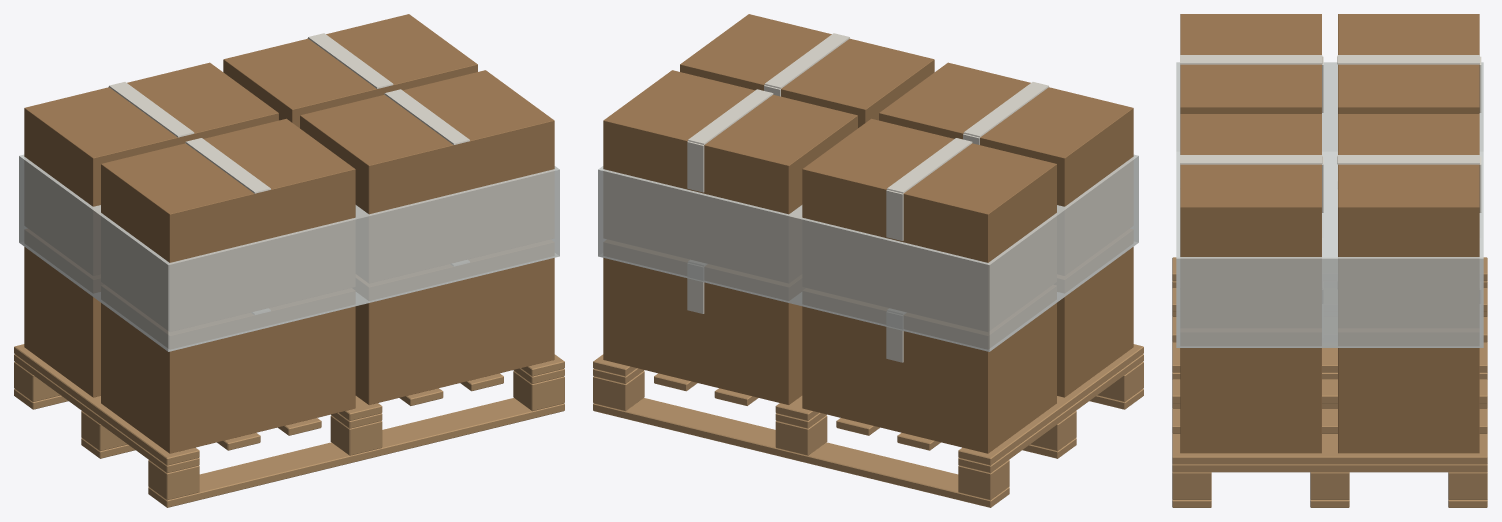
The model's file is prop_pallet_loaded.glb.
3 renders of one model, left to right at view 1: azimuth 30°, elevation 25°; view 2: azimuth 150°, elevation 25°; view 3: azimuth 270°, elevation 25°, orthographic. The views are drawn at different scales.
Parts seen in each view (by area): view 1: Pallet; view 2: Pallet; view 3: Pallet.
Part boxes in pixels (<box>): Pallet: <box>14,14,564,507</box>; Pallet: <box>593,14,1143,507</box>; Pallet: <box>1172,14,1487,507</box>.
Size of what is drawn, in the model's own units: 1.2 by 0.838 by 0.8.
